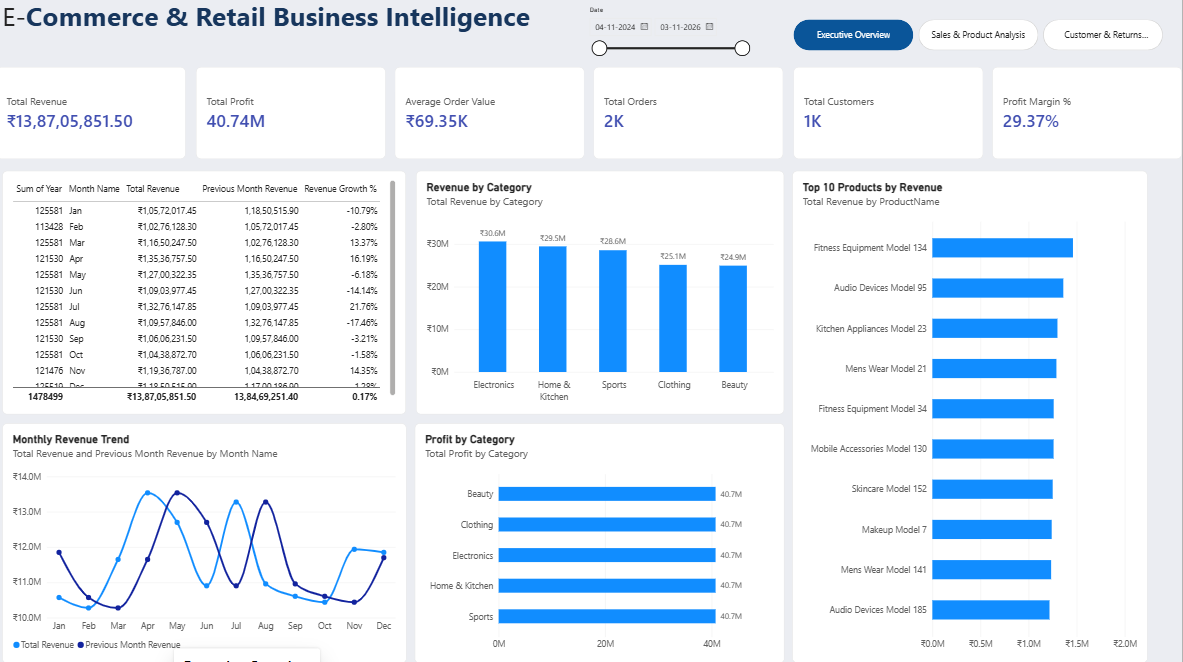

What the dashboard file says about the page in this screenshot:
{"tool":"powerbi","page":{"name":"Executive Overview","canvas":[1920,1080],"ordinal":0},"visuals":[{"type":"textbox","box":[10.1,0,890.4,70.8],"z":0},{"type":"cardVisual","fields":{"Data":["vw_CategoryPerformance.Total Revenue"]},"box":[0,113.3,307.6,149.7],"z":1000},{"type":"cardVisual","fields":{"Data":["vw_CategoryPerformance.Total Orders"]},"box":[967.9,113.3,307,149.7],"z":2000},{"type":"cardVisual","fields":{"Data":["Customers.Total Customers"]},"box":[1290.4,113.3,307,149.7],"z":3000},{"type":"cardVisual","fields":{"Data":["vw_OrderLineDetails.Total Profit"]},"box":[323,113.3,307,149.7],"z":4000},{"type":"cardVisual","fields":{"Data":["vw_OrderLineDetails.Profit Margin %"]},"box":[1612.8,113.3,307,149.7],"z":5000},{"type":"cardVisual","fields":{"Data":["Customers.Average Order Value"]},"box":[645.5,113.3,307,149.7],"z":6000},{"type":"tableEx","fields":{"Values":["Sum(DateTable.Year)","DateTable.Month Name","vw_CategoryPerformance.Total Revenue","vw_OrderLineDetails.Previous Month Revenue","vw_OrderLineDetails.Revenue Growth %"]},"box":[10.1,281.3,653.6,394.6],"z":7000},{"type":"lineChart","title":"Monthly Revenue Trend","fields":{"Category":["DateTable.Month Name"],"Y":["vw_CategoryPerformance.Total Revenue","vw_OrderLineDetails.Previous Month Revenue"]},"box":[10,690,654,390],"z":8000},{"type":"clusteredColumnChart","title":"Revenue by Category","fields":{"Category":["vw_OrderLineDetails.Category"],"Y":["vw_CategoryPerformance.Total Revenue"]},"box":[680,282,596,394],"z":9000},{"type":"clusteredBarChart","title":"Profit by Category","fields":{"Category":["Products.Category"],"Y":["vw_OrderLineDetails.Total Profit"]},"box":[678,690,598,390],"z":10000},{"type":"clusteredBarChart","title":"Top 10 Products by Revenue","fields":{"Category":["vw_OrderLineDetails.ProductName"],"Y":["vw_CategoryPerformance.Total Revenue"]},"box":[1289.8,281.5,575.6,798.2],"z":11000},{"type":"slicer","fields":{"Values":["DateTable.Date"]},"box":[953.1,14.2,271,98.7],"z":11001},{"type":"pageNavigator","box":[1291.1,36.4,600,50],"z":11002}]}

Visuals, with their boxes in screenshot pixels (x1, y1, x2, y2), scaled from the page's 1920x1080 canvas onto the 1183x662 screenshot:
textbox: locate(6, 0, 555, 43)
cardVisual - vw_CategoryPerformance.Total Revenue: locate(0, 69, 190, 161)
cardVisual - vw_CategoryPerformance.Total Orders: locate(596, 69, 786, 161)
cardVisual - Customers.Total Customers: locate(795, 69, 984, 161)
cardVisual - vw_OrderLineDetails.Total Profit: locate(199, 69, 388, 161)
cardVisual - vw_OrderLineDetails.Profit Margin %: locate(994, 69, 1182, 161)
cardVisual - Customers.Average Order Value: locate(398, 69, 587, 161)
tableEx - Sum(DateTable.Year) x DateTable.Month Name: locate(6, 172, 409, 414)
"Monthly Revenue Trend" lineChart: locate(6, 423, 409, 661)
"Revenue by Category" clusteredColumnChart: locate(419, 173, 786, 414)
"Profit by Category" clusteredBarChart: locate(418, 423, 786, 661)
"Top 10 Products by Revenue" clusteredBarChart: locate(795, 173, 1149, 661)
slicer - DateTable.Date: locate(587, 9, 754, 69)
pageNavigator: locate(796, 22, 1165, 53)
